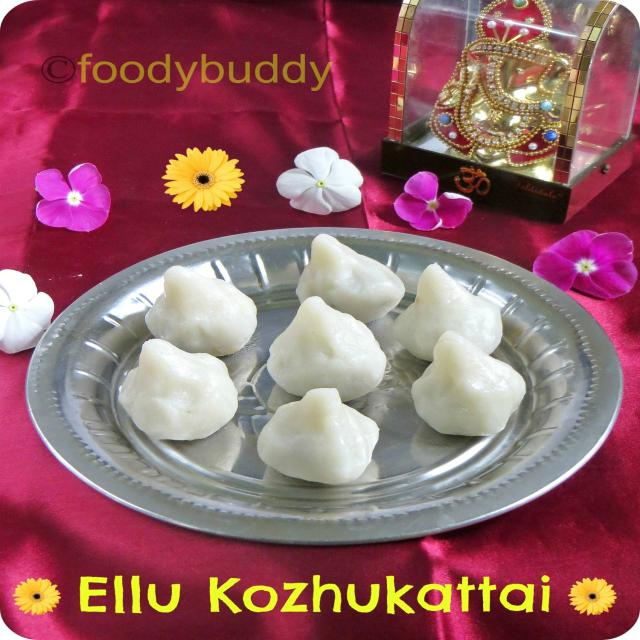poorna kolukattai: (118, 226, 536, 494)
